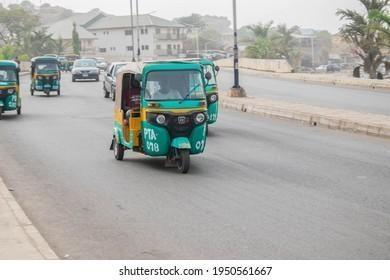keke: (111, 60, 211, 174), (29, 56, 61, 100), (0, 59, 21, 122)
